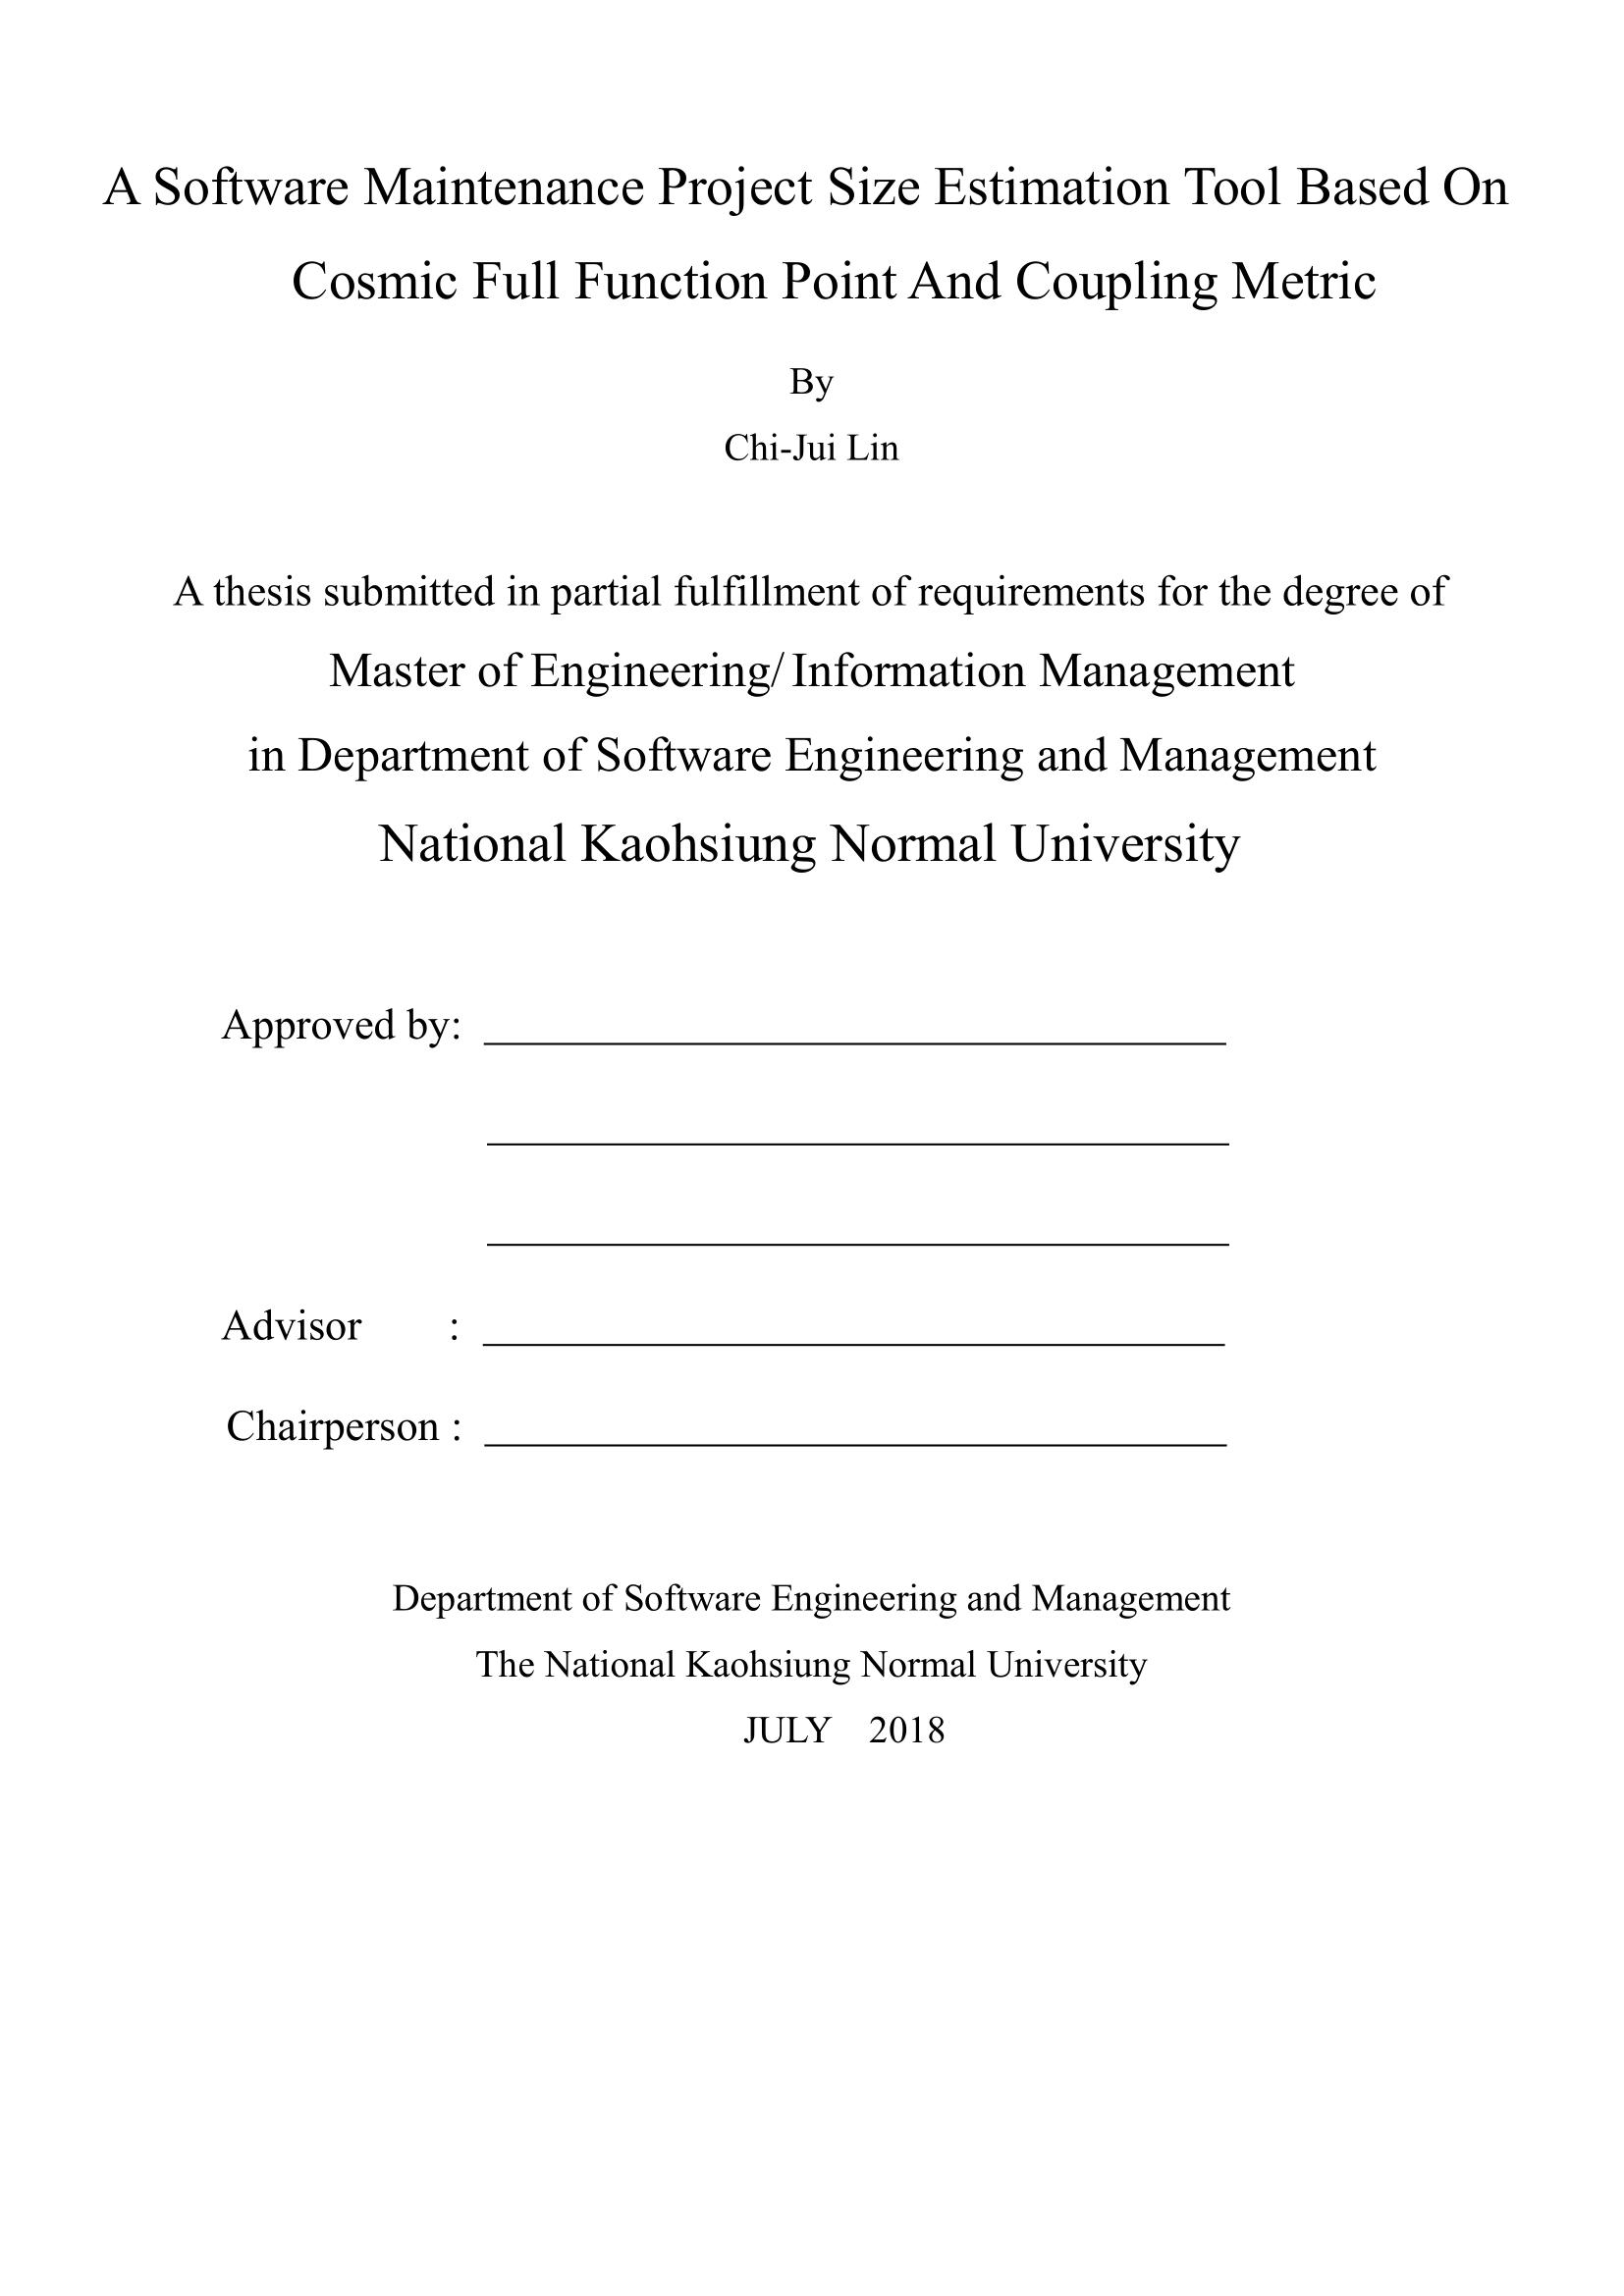input: (473, 956, 1253, 1072), (478, 1377, 1246, 1481), (482, 1080, 1246, 1172), (482, 1191, 1244, 1272), (478, 1289, 1236, 1365)
text: (135, 550, 1483, 905), (91, 149, 1538, 337), (360, 1562, 1265, 1765), (712, 341, 933, 480), (197, 982, 466, 1068), (192, 1393, 468, 1469), (202, 1289, 459, 1363)
